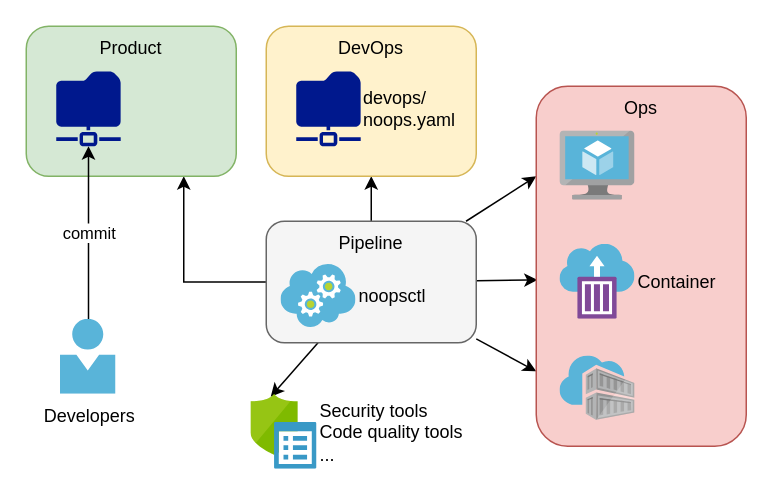
This 773x495 diagram has some shape labels left out. Each missing label, with the box of its shape:
Nexus / ...: (560, 356, 634, 420)
src/ noops.yaml: (56, 70, 120, 146)
VM: (560, 130, 634, 200)
